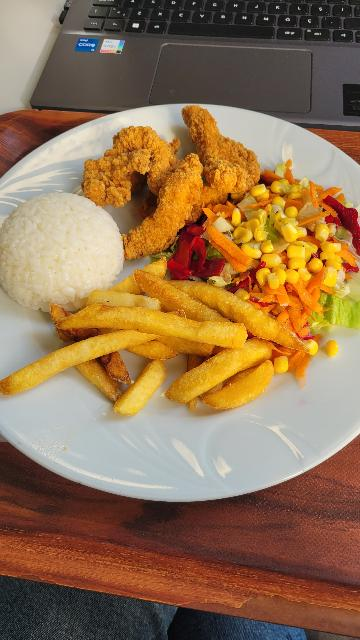Organik: (0, 277, 295, 430), (172, 150, 349, 359), (66, 104, 262, 257), (5, 199, 124, 304)
